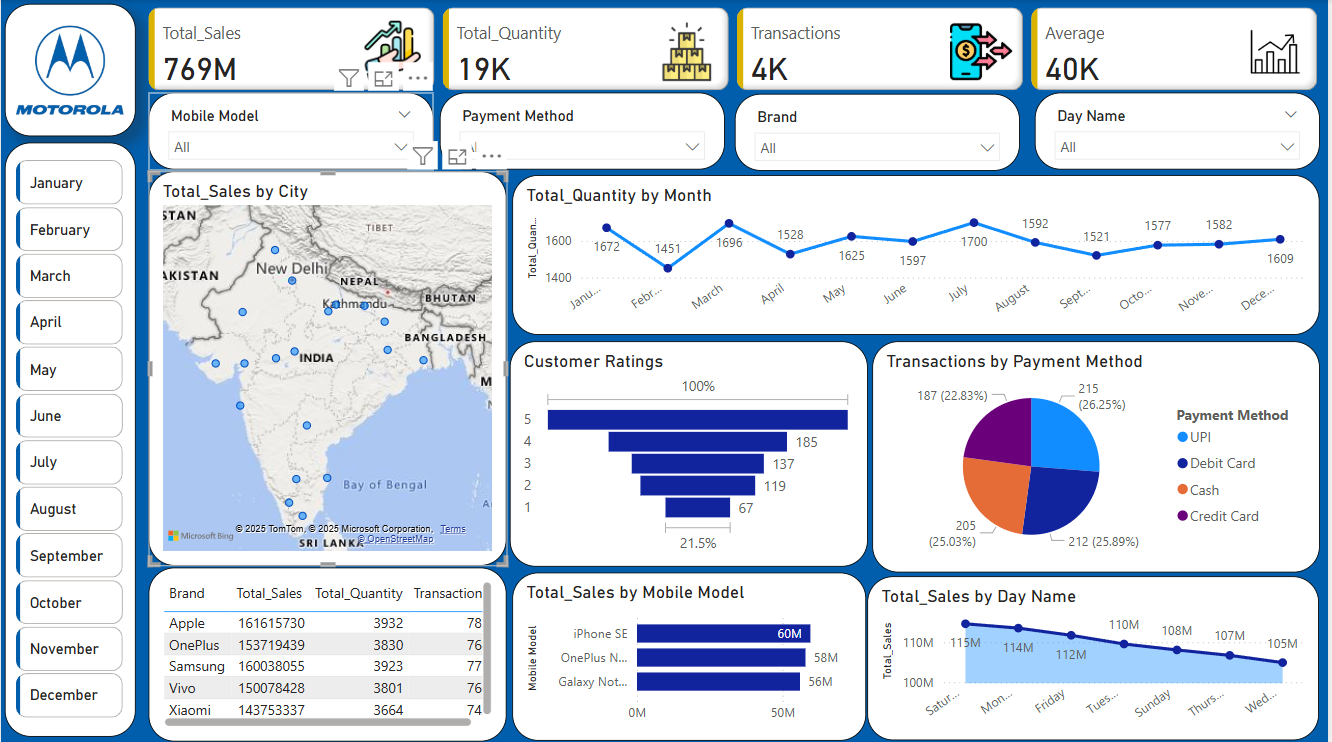

The page's visual inventory and layout, read from the dashboard file:
{"tool":"powerbi","page":{"name":"Page 1","canvas":[1280,720],"ordinal":0},"visuals":[{"type":"shape","box":[4.1,4.1,126.2,127.6],"z":0},{"type":"image","box":[9.6,11,113.9,113.9],"z":1000},{"type":"shape","box":[4.1,137.2,126.2,573.6],"z":2000},{"type":"advancedSlicerVisual","fields":{"Values":["Sales_data.Date.Variation.Date Hierarchy.Month"]},"box":[9.7,149.6,113.4,548.9],"z":3000},{"type":"cardVisual","fields":{"Data":["Sales_data.Total_Sales","Sales_data.Total_Quantity","Sales_data.Transactions","Sales_data.Average"]},"box":[137.8,0,1141.9,98.6],"z":4000},{"type":"map","fields":{"Category":["Sales_data.City"]},"box":[142.6,165.4,345.6,380.6],"z":5000},{"type":"lineChart","fields":{"Category":["Sales_data.Date.Variation.Date Hierarchy.Month"],"Y":["Sales_data.Total_Quantity"]},"box":[493.4,168.9,779.4,154.4],"z":6000},{"type":"clusteredBarChart","fields":{"Category":["Sales_data.Mobile Model"],"Y":["Sales_data.Total_Sales"]},"box":[493.6,552.7,341.6,162.7],"z":7000},{"type":"pieChart","fields":{"Category":["Sales_data.Payment Method"],"Y":["Sales_data.Transactions"]},"box":[840.5,329.5,431.7,223.2],"z":8000},{"type":"funnel","title":"Customer Ratings","fields":{"Category":["Sales_data.Customer Ratings"],"Y":["CountNonNull(Sales_data.Customer Ratings)"]},"box":[490.9,329.5,345.6,217.9],"z":9000},{"type":"areaChart","fields":{"Category":["Sales_data.Day Name"],"Y":["Sales_data.Total_Sales"]},"box":[836.5,556.8,435.7,158.7],"z":10000},{"type":"tableEx","fields":{"Values":["Sales_data.Brand","Sales_data.Total_Sales","Sales_data.Total_Quantity","Sales_data.Transactions"]},"box":[142.6,547.3,345.6,168.1],"z":11000},{"type":"slicer","fields":{"Values":["Sales_data.Mobile Model"]},"box":[142.4,89.3,275.1,74.8],"z":12000},{"type":"slicer","fields":{"Values":["Sales_data.Payment Method"]},"box":[423.5,89.3,275.1,74.8],"z":13000},{"type":"slicer","fields":{"Values":["Sales_data.Brand"]},"box":[708.2,90.5,275.1,74.8],"z":14000},{"type":"slicer","fields":{"Values":["Sales_data.Day Name"]},"box":[997.7,89.3,275.1,74.8],"z":15000}]}

Visuals, with their boxes in screenshot pixels (x1, y1, x2, y2), scaled from the page's 1280x720 canvas onto the 1332x742 screenshot:
shape: <region>4, 4, 136, 136</region>
image: <region>10, 11, 129, 129</region>
shape: <region>4, 141, 136, 733</region>
advancedSlicerVisual - Sales_data.Date.Variation.Date Hierarchy.Month: <region>10, 154, 128, 720</region>
cardVisual - Sales_data.Total_Sales x Sales_data.Total_Quantity: <region>143, 0, 1331, 102</region>
map - Sales_data.City: <region>148, 170, 508, 563</region>
lineChart - Sales_data.Date.Variation.Date Hierarchy.Month x Sales_data.Total_Quantity: <region>513, 174, 1325, 333</region>
clusteredBarChart - Sales_data.Mobile Model x Sales_data.Total_Sales: <region>514, 570, 869, 737</region>
pieChart - Sales_data.Payment Method x Sales_data.Transactions: <region>875, 340, 1324, 570</region>
"Customer Ratings" funnel: <region>511, 340, 870, 564</region>
areaChart - Sales_data.Day Name x Sales_data.Total_Sales: <region>870, 574, 1324, 737</region>
tableEx - Sales_data.Brand x Sales_data.Total_Sales: <region>148, 564, 508, 737</region>
slicer - Sales_data.Mobile Model: <region>148, 92, 434, 169</region>
slicer - Sales_data.Payment Method: <region>441, 92, 727, 169</region>
slicer - Sales_data.Brand: <region>737, 93, 1023, 170</region>
slicer - Sales_data.Day Name: <region>1038, 92, 1325, 169</region>
